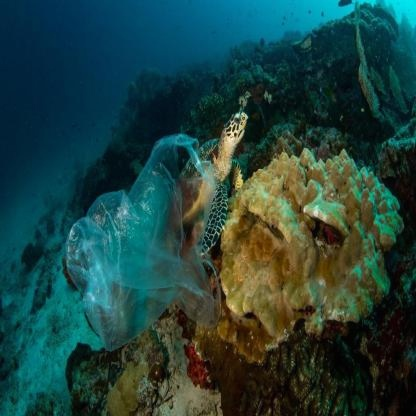pbag: (57, 124, 226, 356)
